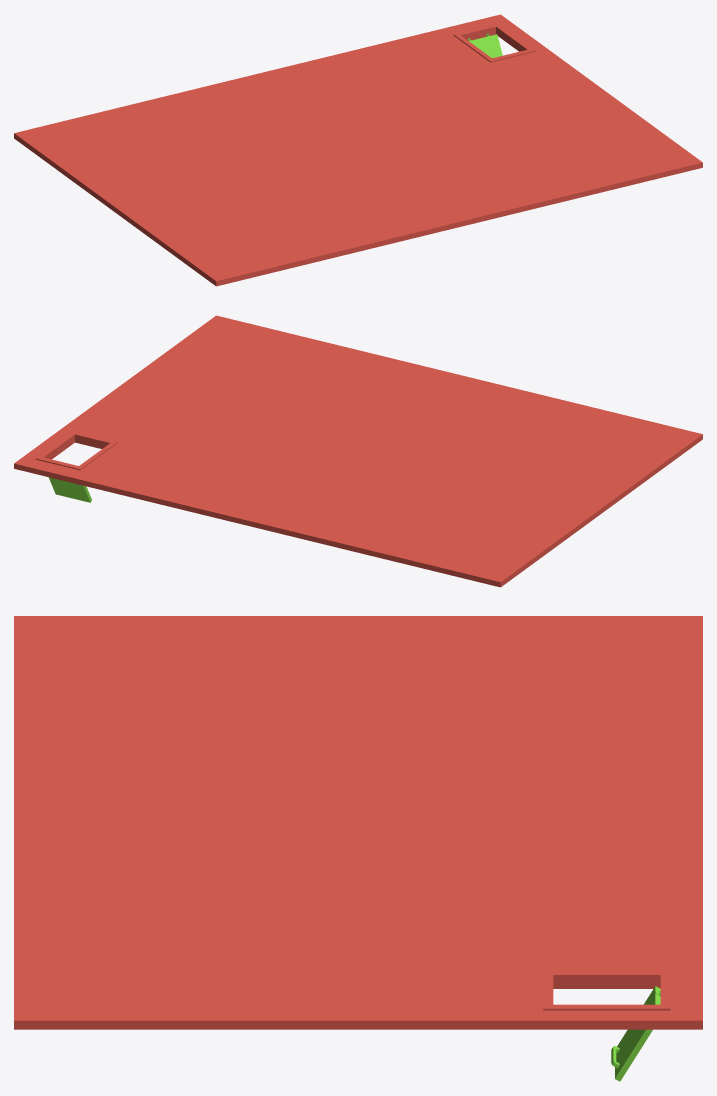
File: CeilingTrapDoor.fbx
3 renders of one model, top to bottom at view 1: azimuth 30°, elevation 25°; view 2: azimuth 150°, elevation 25°; view 3: azimuth 270°, elevation 25°, orthographic. The views are drawn at different scales.
Visible parts, largest first — view 1: Cube.001, Cube.002; view 2: Cube.001, Cube.002; view 3: Cube.001, Cube.002.
Part boxes in pixels (x1,y1,x2,y2): Cube.001: [14, 14, 702, 286]; Cube.002: [468, 33, 502, 58]; Cube.001: [14, 315, 702, 587]; Cube.002: [49, 477, 91, 502]; Cube.001: [14, 616, 702, 1029]; Cube.002: [611, 986, 660, 1081].
Size of the model in its own units: 2584 by 231 by 1860.
